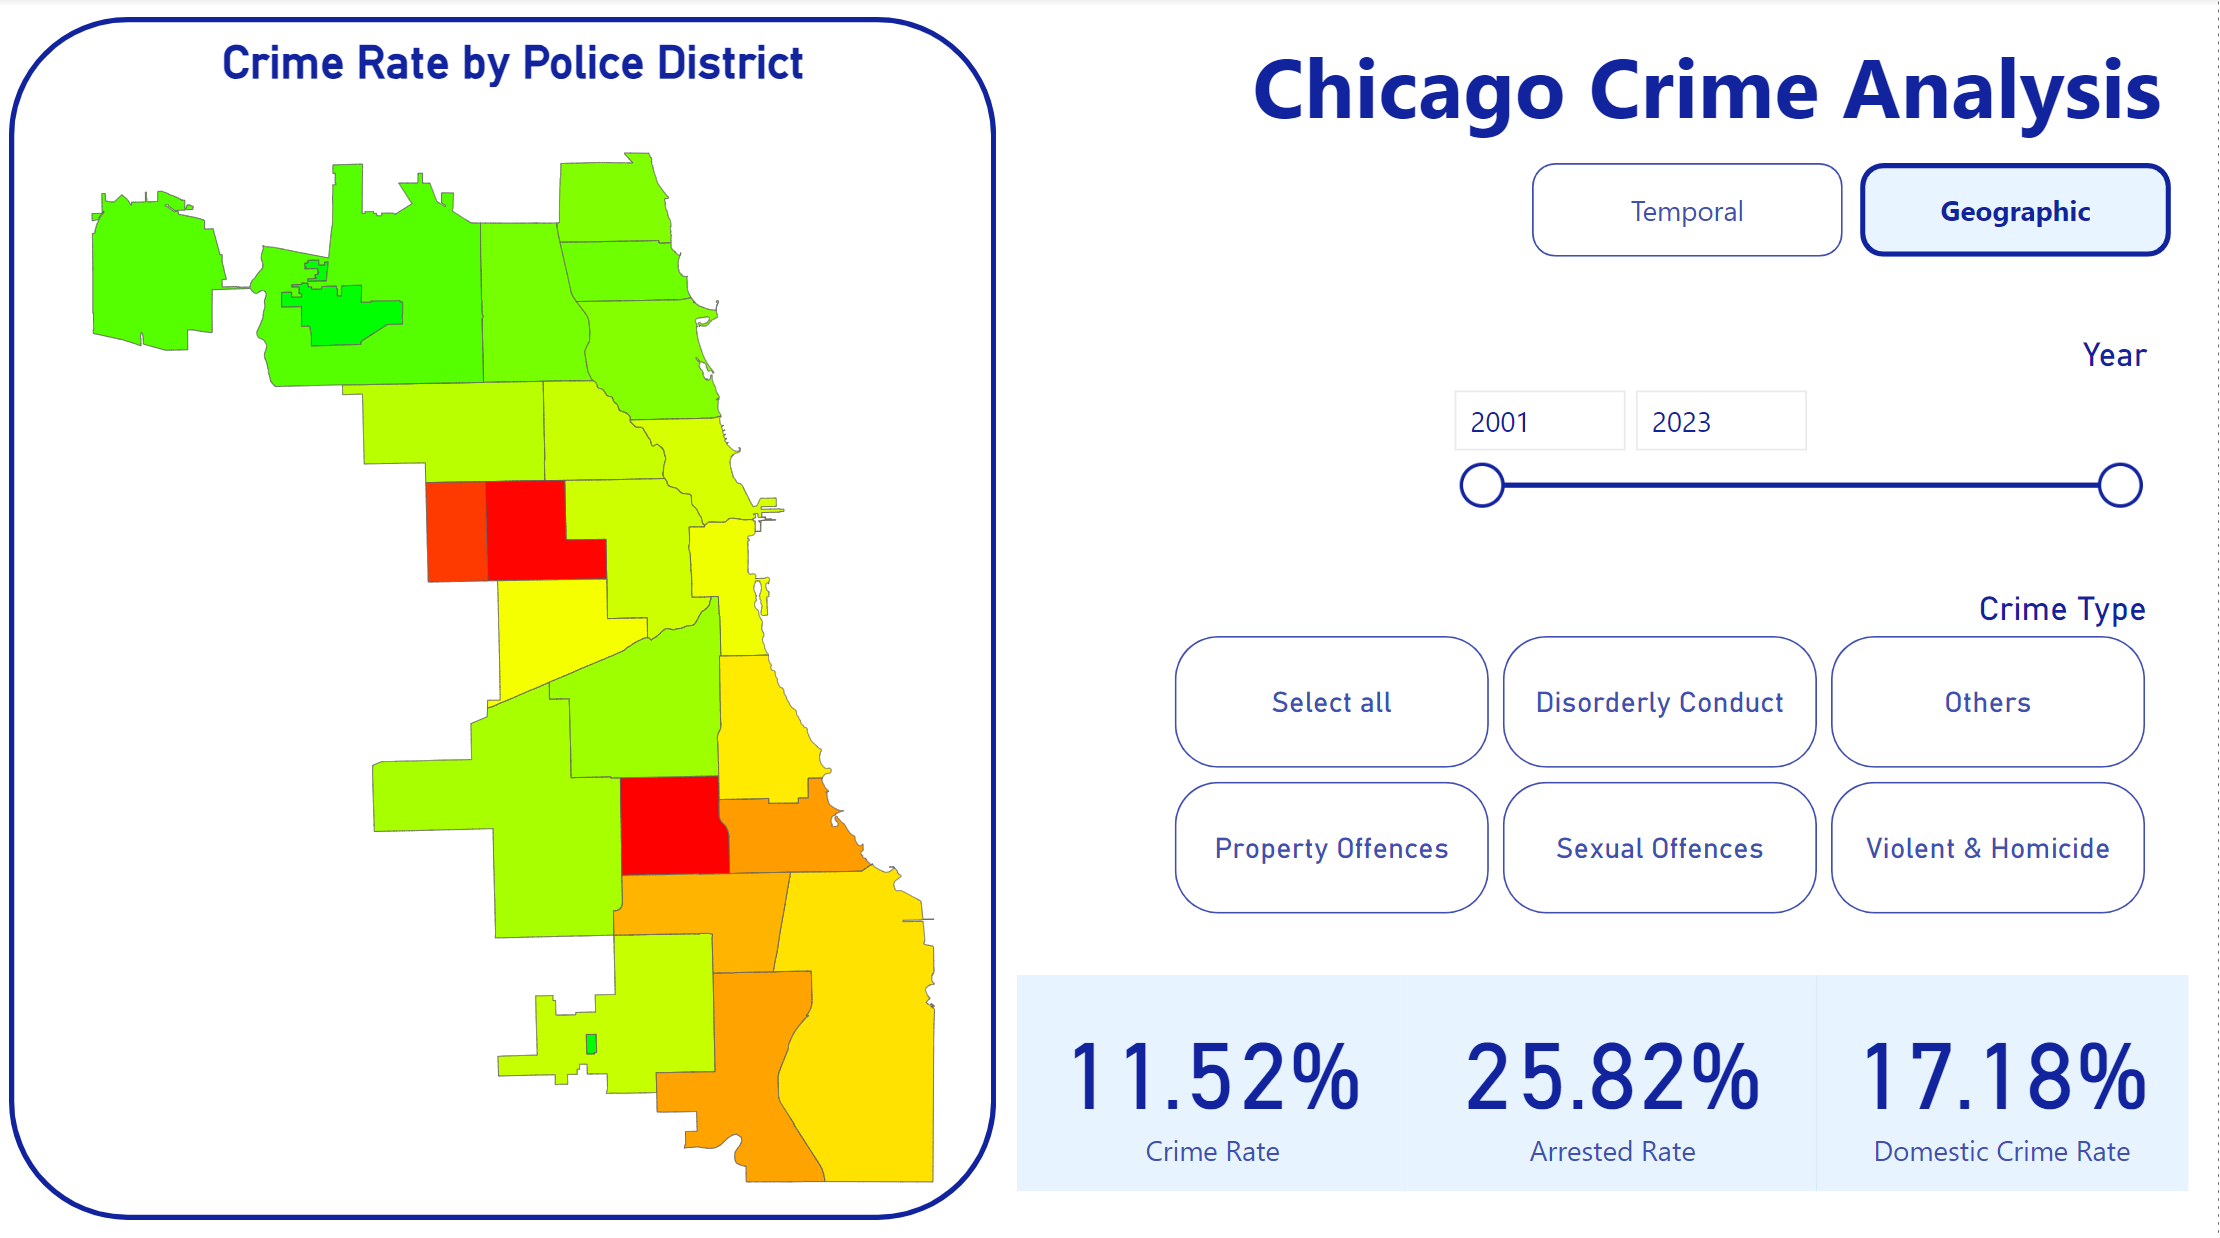

Layout of this report page (visuals, bound fields, positions):
{"tool":"powerbi","page":{"name":"Geographic","canvas":[1280,720],"ordinal":1},"visuals":[{"type":"shape","box":[8.6,11.4,568.6,692.9],"z":0},{"type":"shapeMap","title":"Crime Rate by Police District","fields":{"Category":["population.dist_num"]},"box":[0,21.4,597.1,698.6],"z":1000},{"type":"slicer","title":"Year","fields":{"Values":["public crimes.crime_year"]},"box":[827.1,194.3,417.1,112.9],"z":2000},{"type":"card","fields":{"Values":["public crimes.crime_rate"]},"box":[588.6,562.9,224.3,124.3],"z":3000},{"type":"card","fields":{"Values":["public crimes.arrest_rate"]},"box":[812.9,562.9,235.7,124.3],"z":4000},{"type":"card","fields":{"Values":["public crimes.domestic_rate"]},"box":[1048.6,562.9,214.3,124.3],"z":5000},{"type":"advancedSlicerVisual","title":"Crime Type","fields":{"Values":["test.crime_class"]},"box":[674.3,341.4,570,192.9],"z":6000},{"type":"textbox","box":[704.3,12.9,548.6,82.9],"z":7000},{"type":"pageNavigator","box":[884.3,95.7,368.6,54.3],"z":8000}]}

Visuals, with their boxes in screenshot pixels (x1, y1, x2, y2), scaled from the page's 1280x720 canvas onto the 2220x1238 screenshot:
shape: rect(15, 20, 1001, 1211)
"Crime Rate by Police District" shapeMap: rect(0, 37, 1036, 1237)
"Year" slicer: rect(1435, 334, 2158, 528)
card - public crimes.crime_rate: rect(1021, 968, 1410, 1182)
card - public crimes.arrest_rate: rect(1410, 968, 1819, 1182)
card - public crimes.domestic_rate: rect(1819, 968, 2190, 1182)
"Crime Type" advancedSlicerVisual: rect(1169, 587, 2158, 919)
textbox: rect(1222, 22, 2173, 165)
pageNavigator: rect(1534, 165, 2173, 258)
